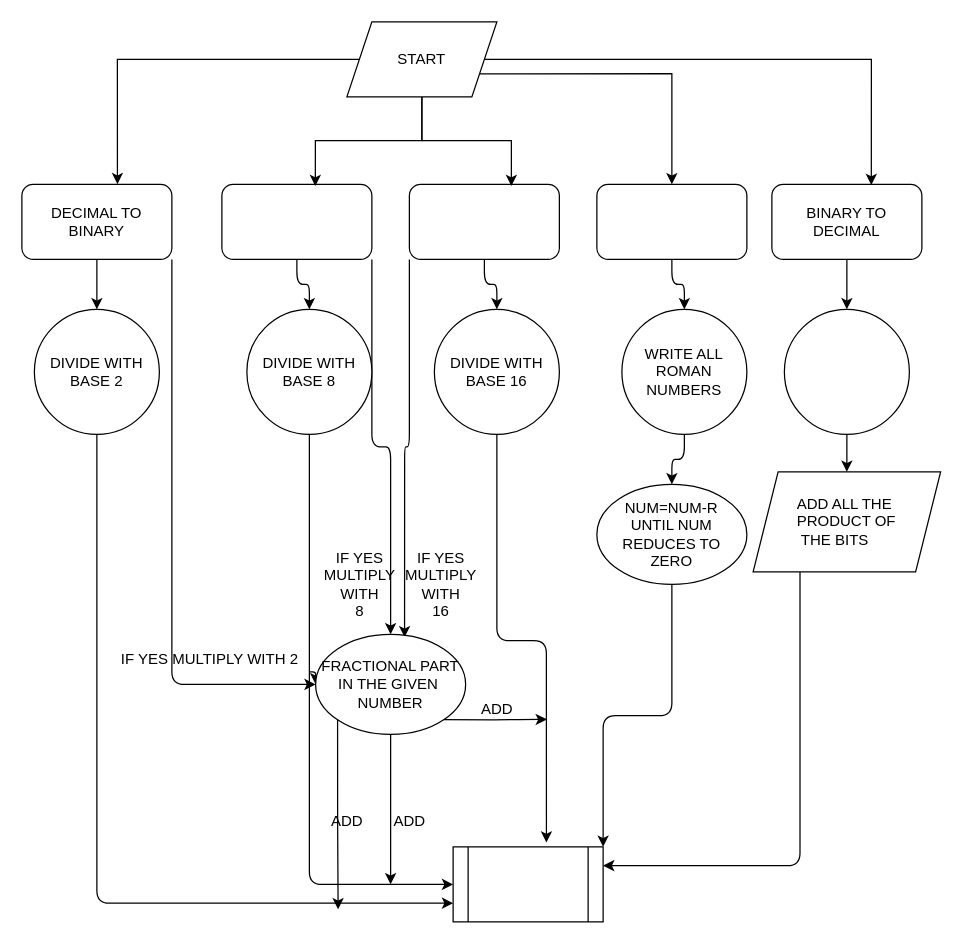
Some shapes in this 963 by 944 pixel diagram are drawn without their labels. The centre of each missing label's shape, as x and y in pixels:
"DECIMAL TO HEXA" goes at point (483, 221).
"DECIMAL TO OCTAL" goes at point (296, 221).
"DECIMAL TO ROMAN" goes at point (671, 221).
"FINAL RESULT" goes at point (527, 884).
"MULTIPLY WITH ITS POSITIONAL WEIGHTS" goes at point (846, 371).
